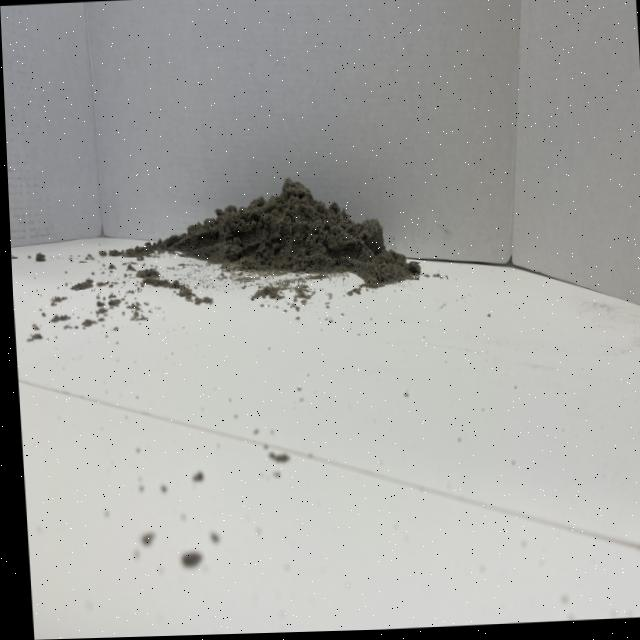sand: (166, 157, 402, 303)
